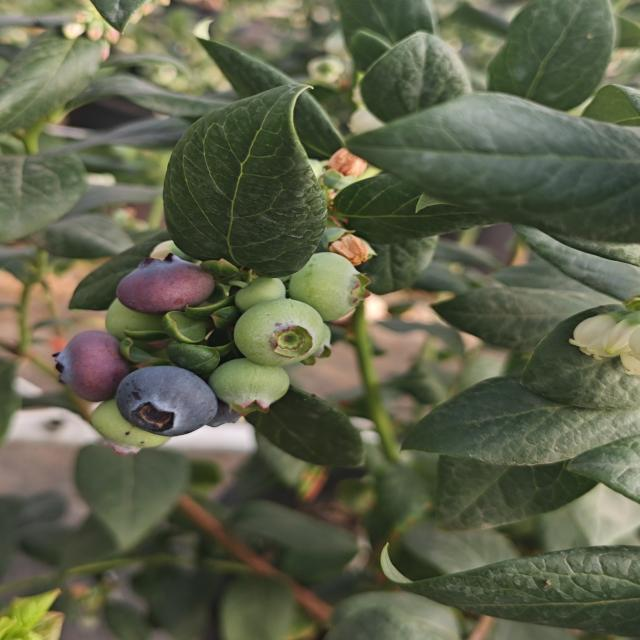ripe: (113, 364, 220, 438)
